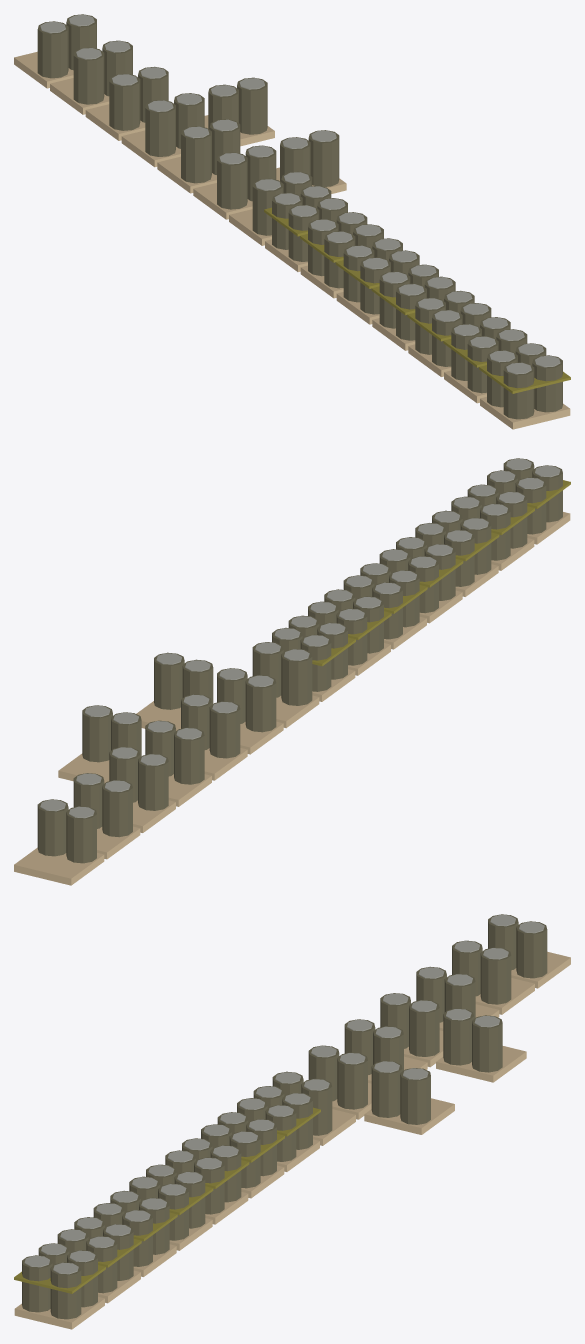
File: SM_CargaCombustible_Mitad_LOD0.fbx
3 renders of one model, top to bottom at view 1: azimuth 30°, elevation 25°; view 2: azimuth 150°, elevation 25°; view 3: azimuth 330°, elevation 25°, orthographic.
Visible parts, largest first — view 1: SM_carga_vagon_v6_LOD0; view 2: SM_carga_vagon_v6_LOD0; view 3: SM_carga_vagon_v6_LOD0.
Part boxes in pixels (left/top/right/bottom): SM_carga_vagon_v6_LOD0: left=14, top=14, right=570, bottom=429; SM_carga_vagon_v6_LOD0: left=14, top=458, right=570, bottom=885; SM_carga_vagon_v6_LOD0: left=14, top=914, right=570, bottom=1329.
Size of the model in its own units: 2.53 by 1.04 by 18.11.
